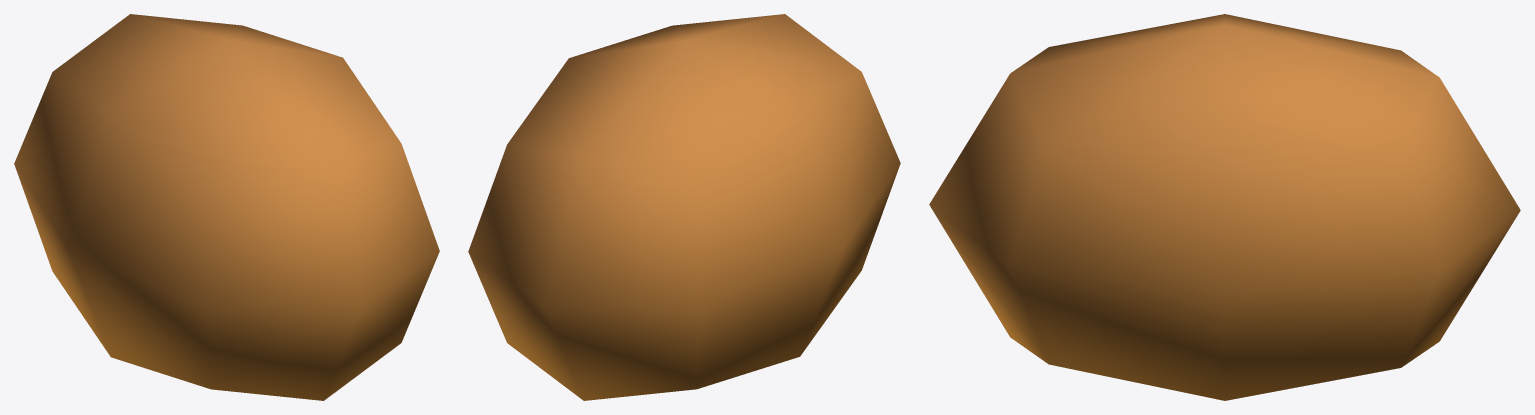
Rendered from potato.fbx.
3 views of the same model, side by side, from view 1: azimuth 30°, elevation 25°; view 2: azimuth 150°, elevation 25°; view 3: azimuth 270°, elevation 25° (orthographic). The views are drawn at different scales.
Parts seen in each view (by area): view 1: potato; view 2: potato; view 3: potato.
Boxes of the visible parts, box(x1,y1,x2,y2) form: potato: box(14, 14, 439, 400); potato: box(468, 14, 900, 400); potato: box(929, 14, 1520, 400).
Size of the model in its own units: 88.99 by 88.99 by 131.
